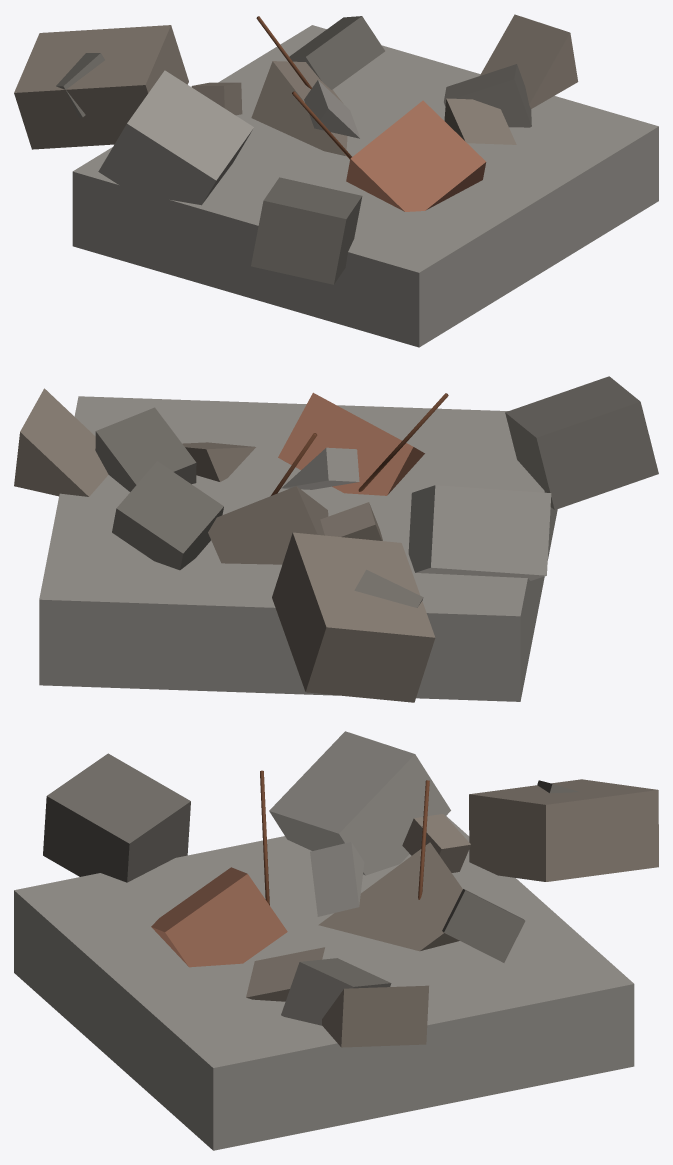
The model's file is Rubble0.fbx.
3 views of the same model, one above another, from view 1: azimuth 30°, elevation 25°; view 2: azimuth 150°, elevation 25°; view 3: azimuth 270°, elevation 25° (orthographic). The views are drawn at different scales.
Visible parts, largest first — view 1: Core, Chunk5, Chunk11, Chunk1, Chunk2, Chunk6, Chunk9, Chunk4, Chunk8, Chunk0, Chunk3, Chunk10 (+1 smaller); view 2: Core, Chunk5, Chunk2, Chunk11, Chunk4, Chunk6, Chunk1, Chunk9, Chunk8, Chunk3, Chunk0, Chunk10 (+2 smaller); view 3: Core, Chunk5, Chunk11, Chunk2, Chunk1, Chunk9, Chunk6, Chunk8, Chunk4, Chunk3, Chunk0, Chunk10 (+1 smaller).
Part boxes in pixels (bbox=[...]): Core: bbox=[72, 25, 658, 347]; Chunk5: bbox=[14, 25, 188, 149]; Chunk11: bbox=[98, 70, 253, 211]; Chunk1: bbox=[346, 100, 486, 211]; Chunk2: bbox=[251, 177, 362, 284]; Chunk6: bbox=[480, 14, 578, 108]; Chunk9: bbox=[251, 61, 347, 155]; Chunk4: bbox=[289, 16, 384, 89]; Chunk8: bbox=[444, 64, 531, 127]; Chunk0: bbox=[444, 98, 516, 144]; Chunk3: bbox=[304, 80, 360, 138]; Chunk10: bbox=[191, 82, 242, 115]; Core: bbox=[39, 396, 557, 701]; Chunk5: bbox=[272, 532, 435, 702]; Chunk2: bbox=[505, 376, 658, 509]; Chunk11: bbox=[408, 485, 551, 580]; Chunk4: bbox=[112, 461, 223, 570]; Chunk6: bbox=[14, 388, 108, 496]; Chunk1: bbox=[278, 392, 424, 495]; Chunk9: bbox=[208, 486, 328, 564]; Chunk8: bbox=[95, 407, 196, 491]; Chunk3: bbox=[281, 447, 359, 489]; Chunk0: bbox=[182, 442, 255, 481]; Chunk10: bbox=[320, 502, 382, 540]; Core: bbox=[14, 816, 634, 1150]; Chunk5: bbox=[469, 779, 658, 881]; Chunk11: bbox=[269, 731, 450, 875]; Chunk2: bbox=[43, 753, 190, 882]; Chunk1: bbox=[151, 867, 287, 967]; Chunk9: bbox=[318, 842, 462, 951]; Chunk6: bbox=[322, 985, 428, 1047]; Chunk8: bbox=[281, 958, 391, 1025]; Chunk4: bbox=[442, 889, 525, 962]; Chunk3: bbox=[310, 842, 364, 916]; Chunk0: bbox=[246, 947, 324, 1001]; Chunk10: bbox=[402, 814, 470, 872].
Bounding box in the file's own units: 613 × 637 × 226.
